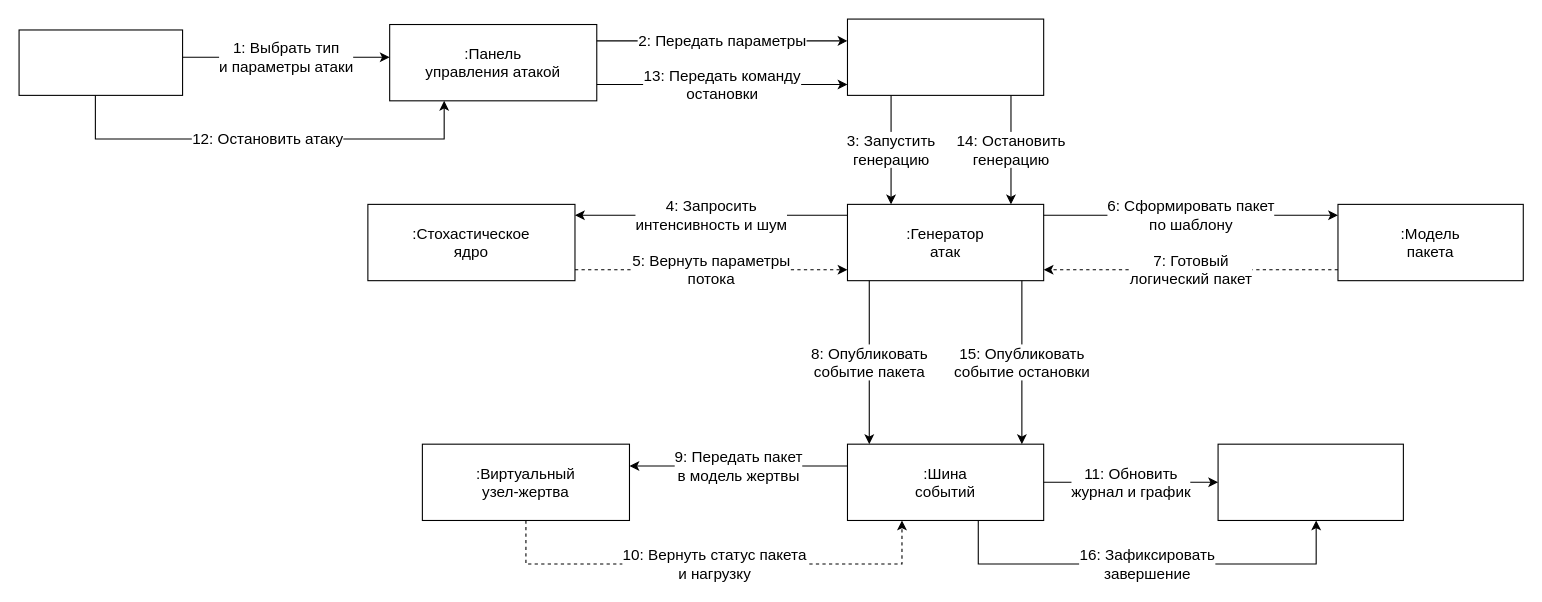
The diagram is 1542 pixels wide and 602 high, and some of its shapes have lost their labels. Here are the shapes that lost their labels. From the top down, the centre of each, then its label:
the point at 100,62: :Пользователь
the point at 945,56: :Контроллер атаки
the point at 1310,481: :Журнал и визуализация
